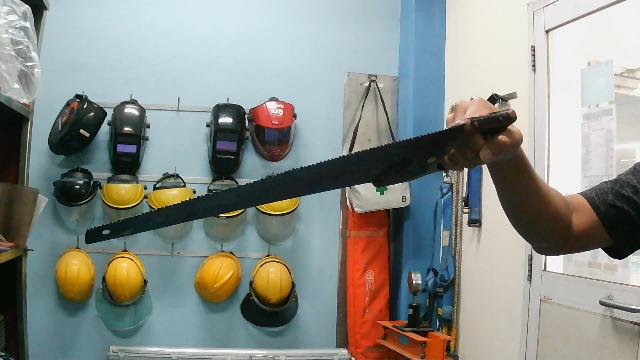gergaji_kayu: (81, 101, 532, 252)
